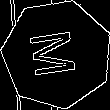M_E: (28, 28, 86, 81)
